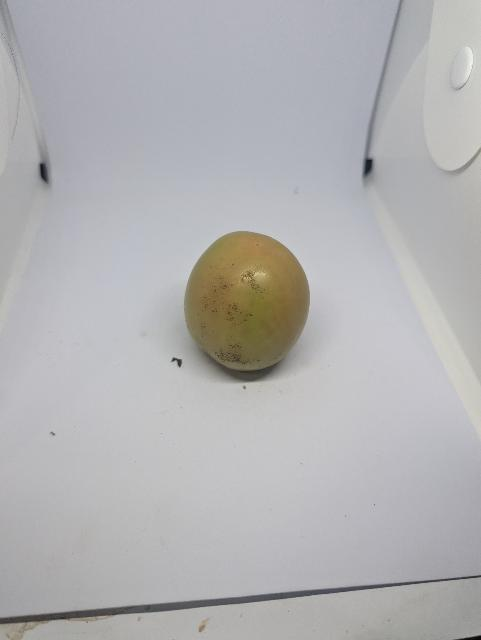breaker: (186, 225, 317, 383)
